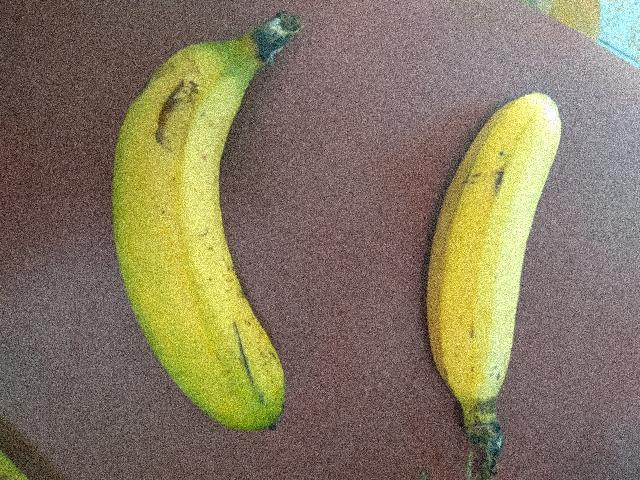freshripe: (416, 68, 584, 444)
ripe: (97, 44, 319, 420)
